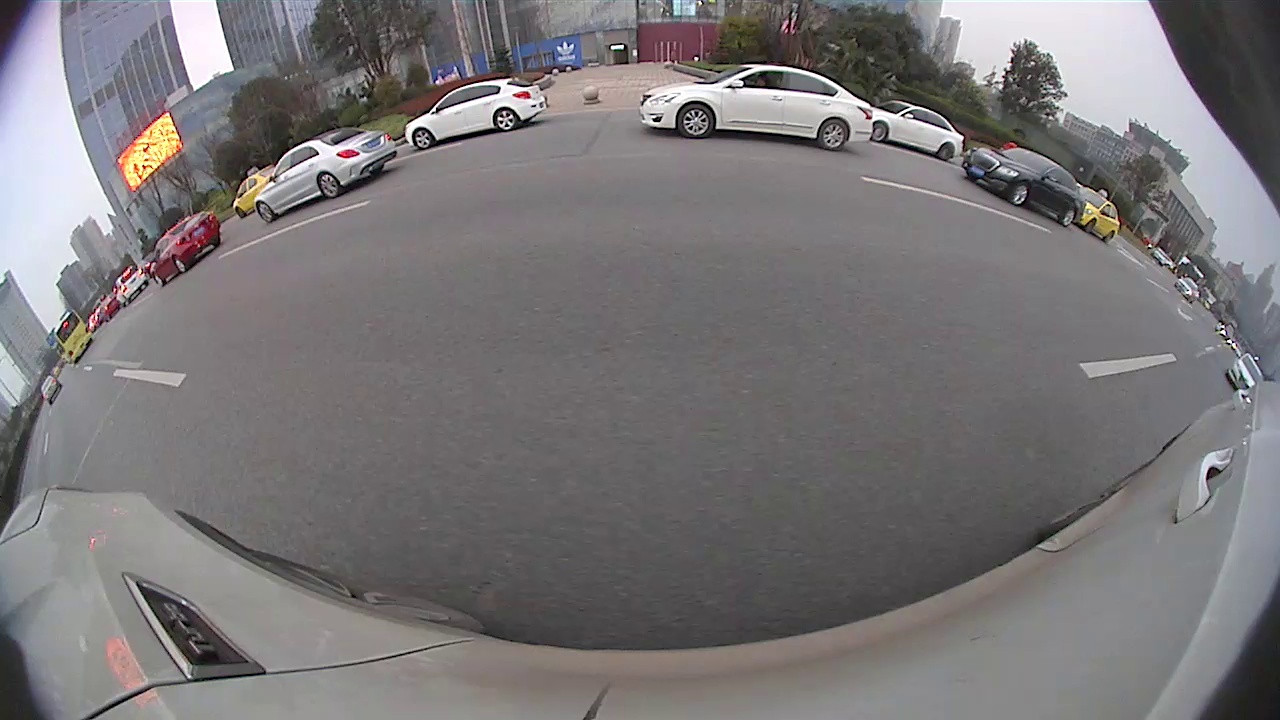bus: (50, 307, 97, 364)
car: (636, 61, 876, 152), (252, 125, 399, 226), (403, 77, 547, 152), (963, 143, 1079, 230), (868, 99, 963, 164), (148, 212, 224, 290), (230, 162, 280, 221), (1075, 186, 1120, 245)
front: (674, 99, 717, 140), (1003, 181, 1034, 206), (411, 125, 437, 151), (869, 119, 892, 146), (252, 199, 276, 223), (1080, 217, 1099, 238), (151, 271, 166, 289)
rear: (815, 115, 850, 154), (314, 171, 344, 203), (493, 107, 518, 134), (934, 142, 956, 163), (1055, 206, 1076, 227), (169, 255, 189, 276), (1102, 229, 1116, 246)
